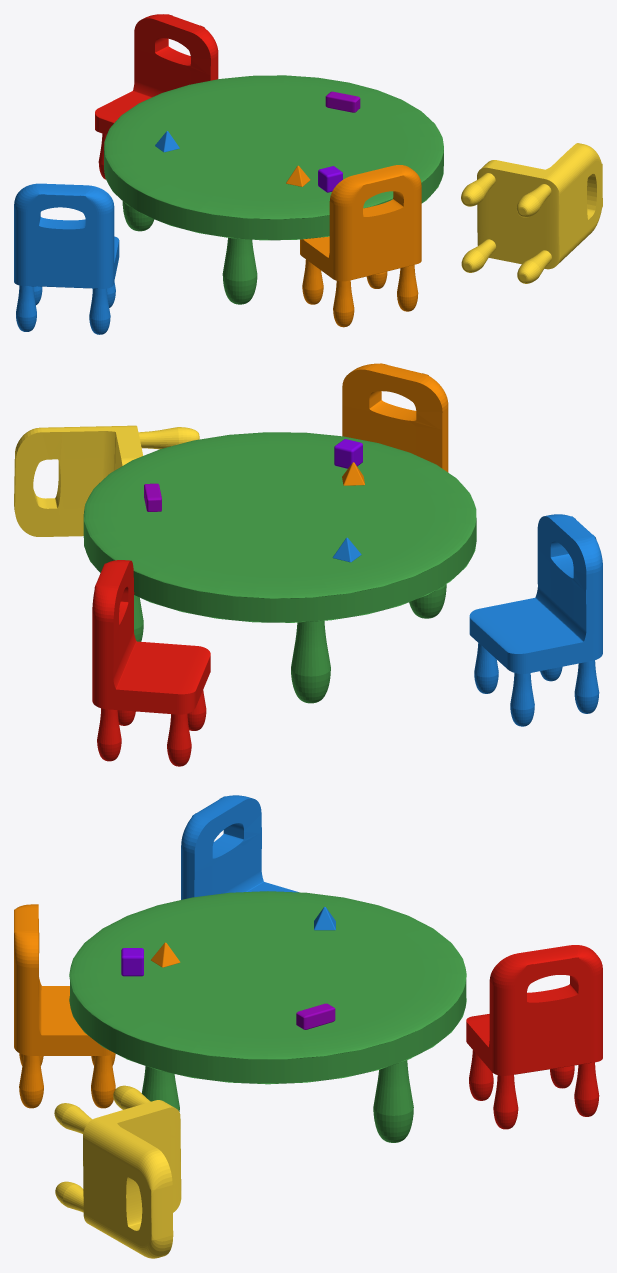
File: Table.fbx
3 renders of one model, top to bottom at view 1: azimuth 30°, elevation 25°; view 2: azimuth 150°, elevation 25°; view 3: azimuth 270°, elevation 25°, orthographic. The views are drawn at different scales.
Visible parts, largest first — view 1: Cylinder.001, Silla4, Silla, Silla2, Silla3, Cube.002, Cube.001; view 2: Cylinder.001, Silla2, Silla3, Silla4, Silla, Cube.001; view 3: Cylinder.001, Silla3, Silla4, Silla, Silla2, Cube.002, Cube.001.
Boxes of the visible parts, box(x1,y1,x2,y2) form: Cylinder.001: box(104, 75, 443, 304); Silla4: box(461, 143, 602, 283); Silla: box(300, 165, 421, 327); Silla2: box(14, 183, 119, 334); Silla3: box(95, 14, 218, 179); Cube.002: box(325, 91, 360, 112); Cube.001: box(318, 166, 342, 192); Cylinder.001: box(83, 432, 476, 703); Silla2: box(469, 514, 602, 726); Silla3: box(92, 560, 210, 766); Silla4: box(14, 425, 199, 536); Silla: box(342, 363, 448, 472); Cube.001: box(334, 439, 362, 468); Cylinder.001: box(69, 891, 466, 1142); Silla3: box(466, 945, 602, 1129); Silla4: box(54, 1085, 181, 1258); Silla: box(14, 904, 115, 1108); Silla2: box(181, 795, 298, 899); Cube.002: box(296, 1003, 335, 1029); Cube.001: box(121, 948, 143, 976).
Bounding box in the file's own units: 473 × 136 × 378.
